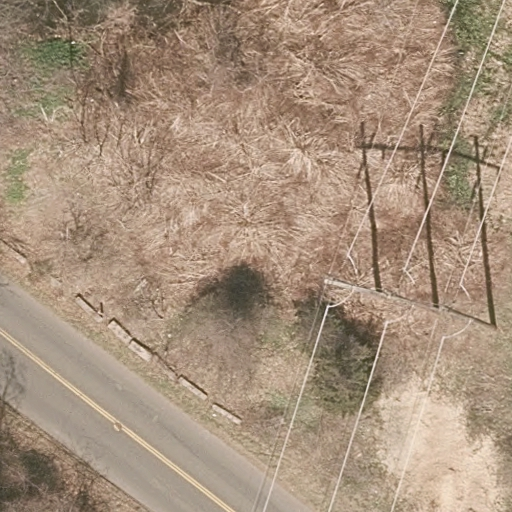TT: (323, 272, 499, 333)
